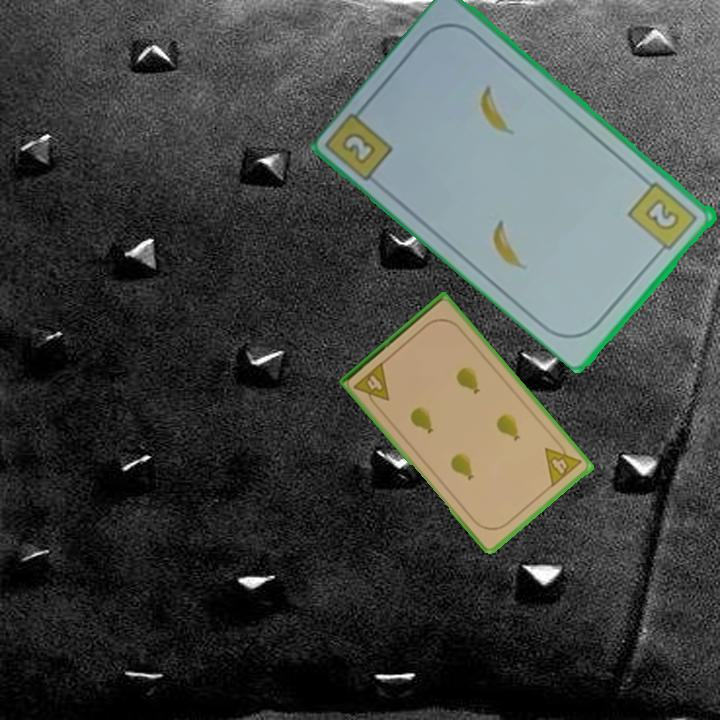2b: (625, 178, 701, 258), (338, 128, 380, 168)
4p: (541, 436, 585, 490), (350, 358, 393, 411)
